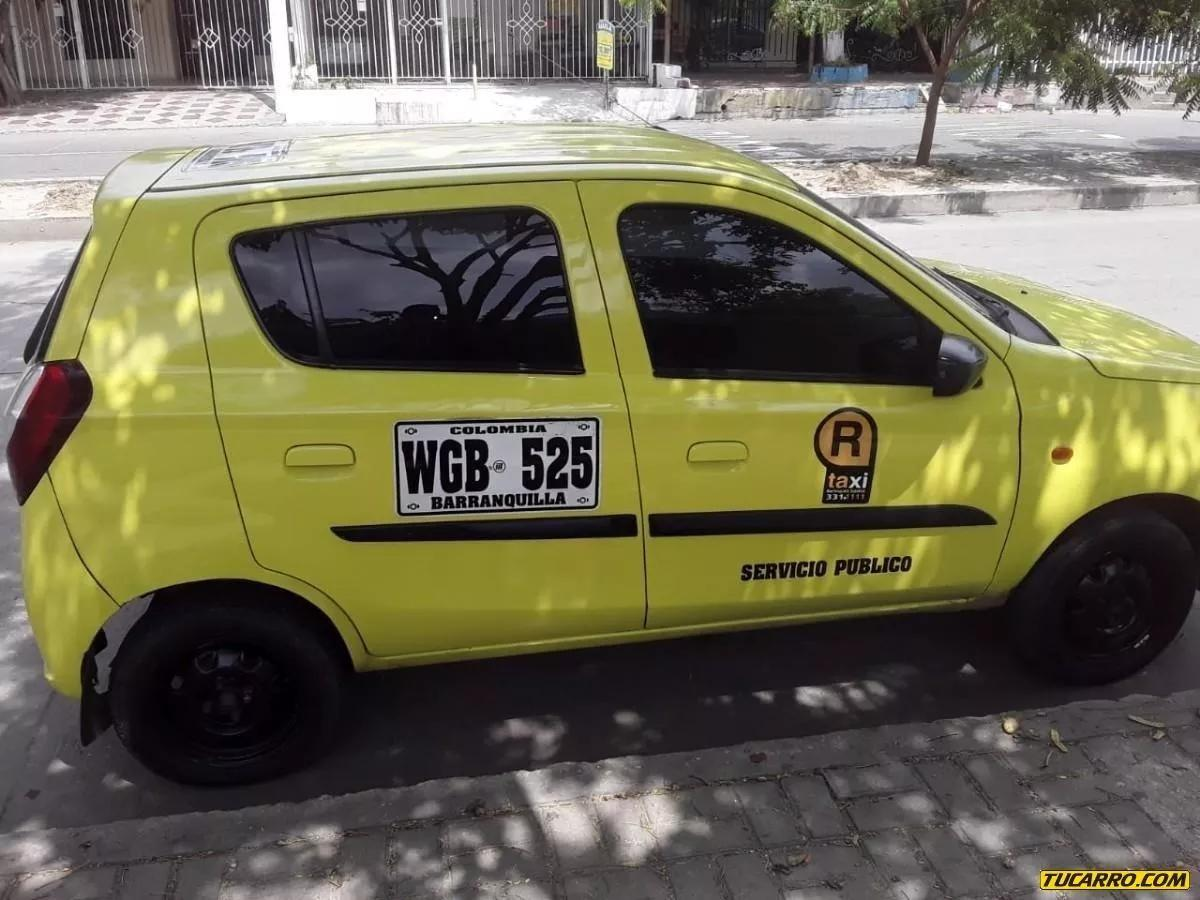taxi: (1, 144, 1200, 811)
